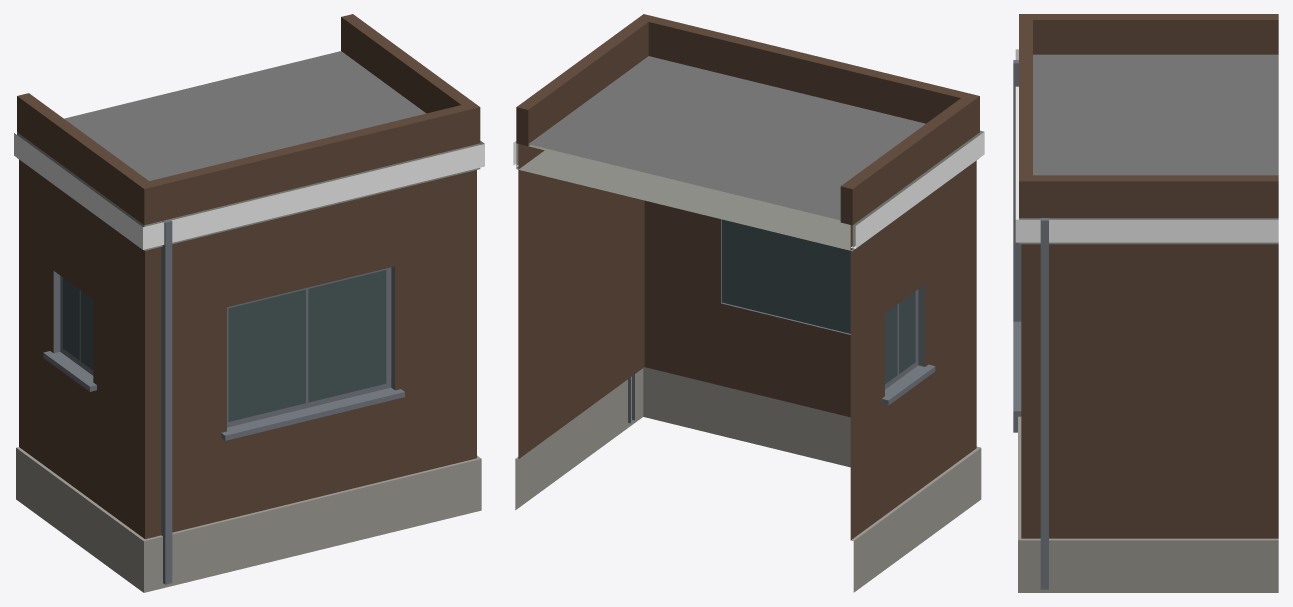
File: base-stair3.fbx
3 renders of one model, left to right at view 1: azimuth 30°, elevation 25°; view 2: azimuth 150°, elevation 25°; view 3: azimuth 270°, elevation 25°, orthographic.
Visible parts, largest first — view 1: a2000s3/800/base-stair; view 2: a2000s3/800/base-stair; view 3: a2000s3/800/base-stair.
Part boxes in pixels (left/top/right/bottom): a2000s3/800/base-stair: left=14, top=14, right=484, bottom=592; a2000s3/800/base-stair: left=513, top=14, right=984, bottom=592; a2000s3/800/base-stair: left=1013, top=14, right=1278, bottom=592.
Size of the model in its own units: 3.5 by 3.9 by 2.28.
